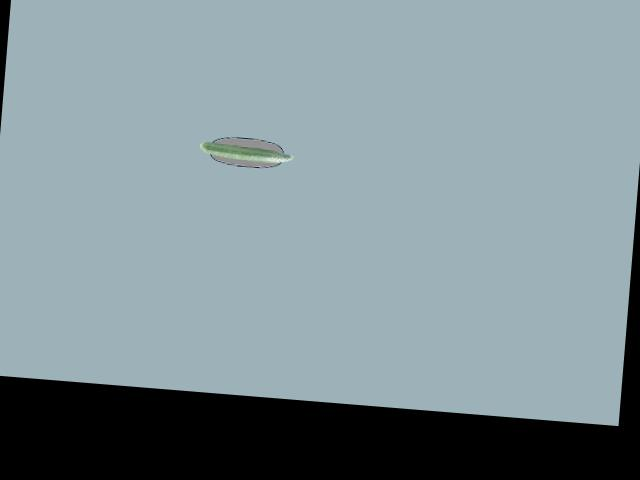cucumber: (199, 140, 295, 163)
